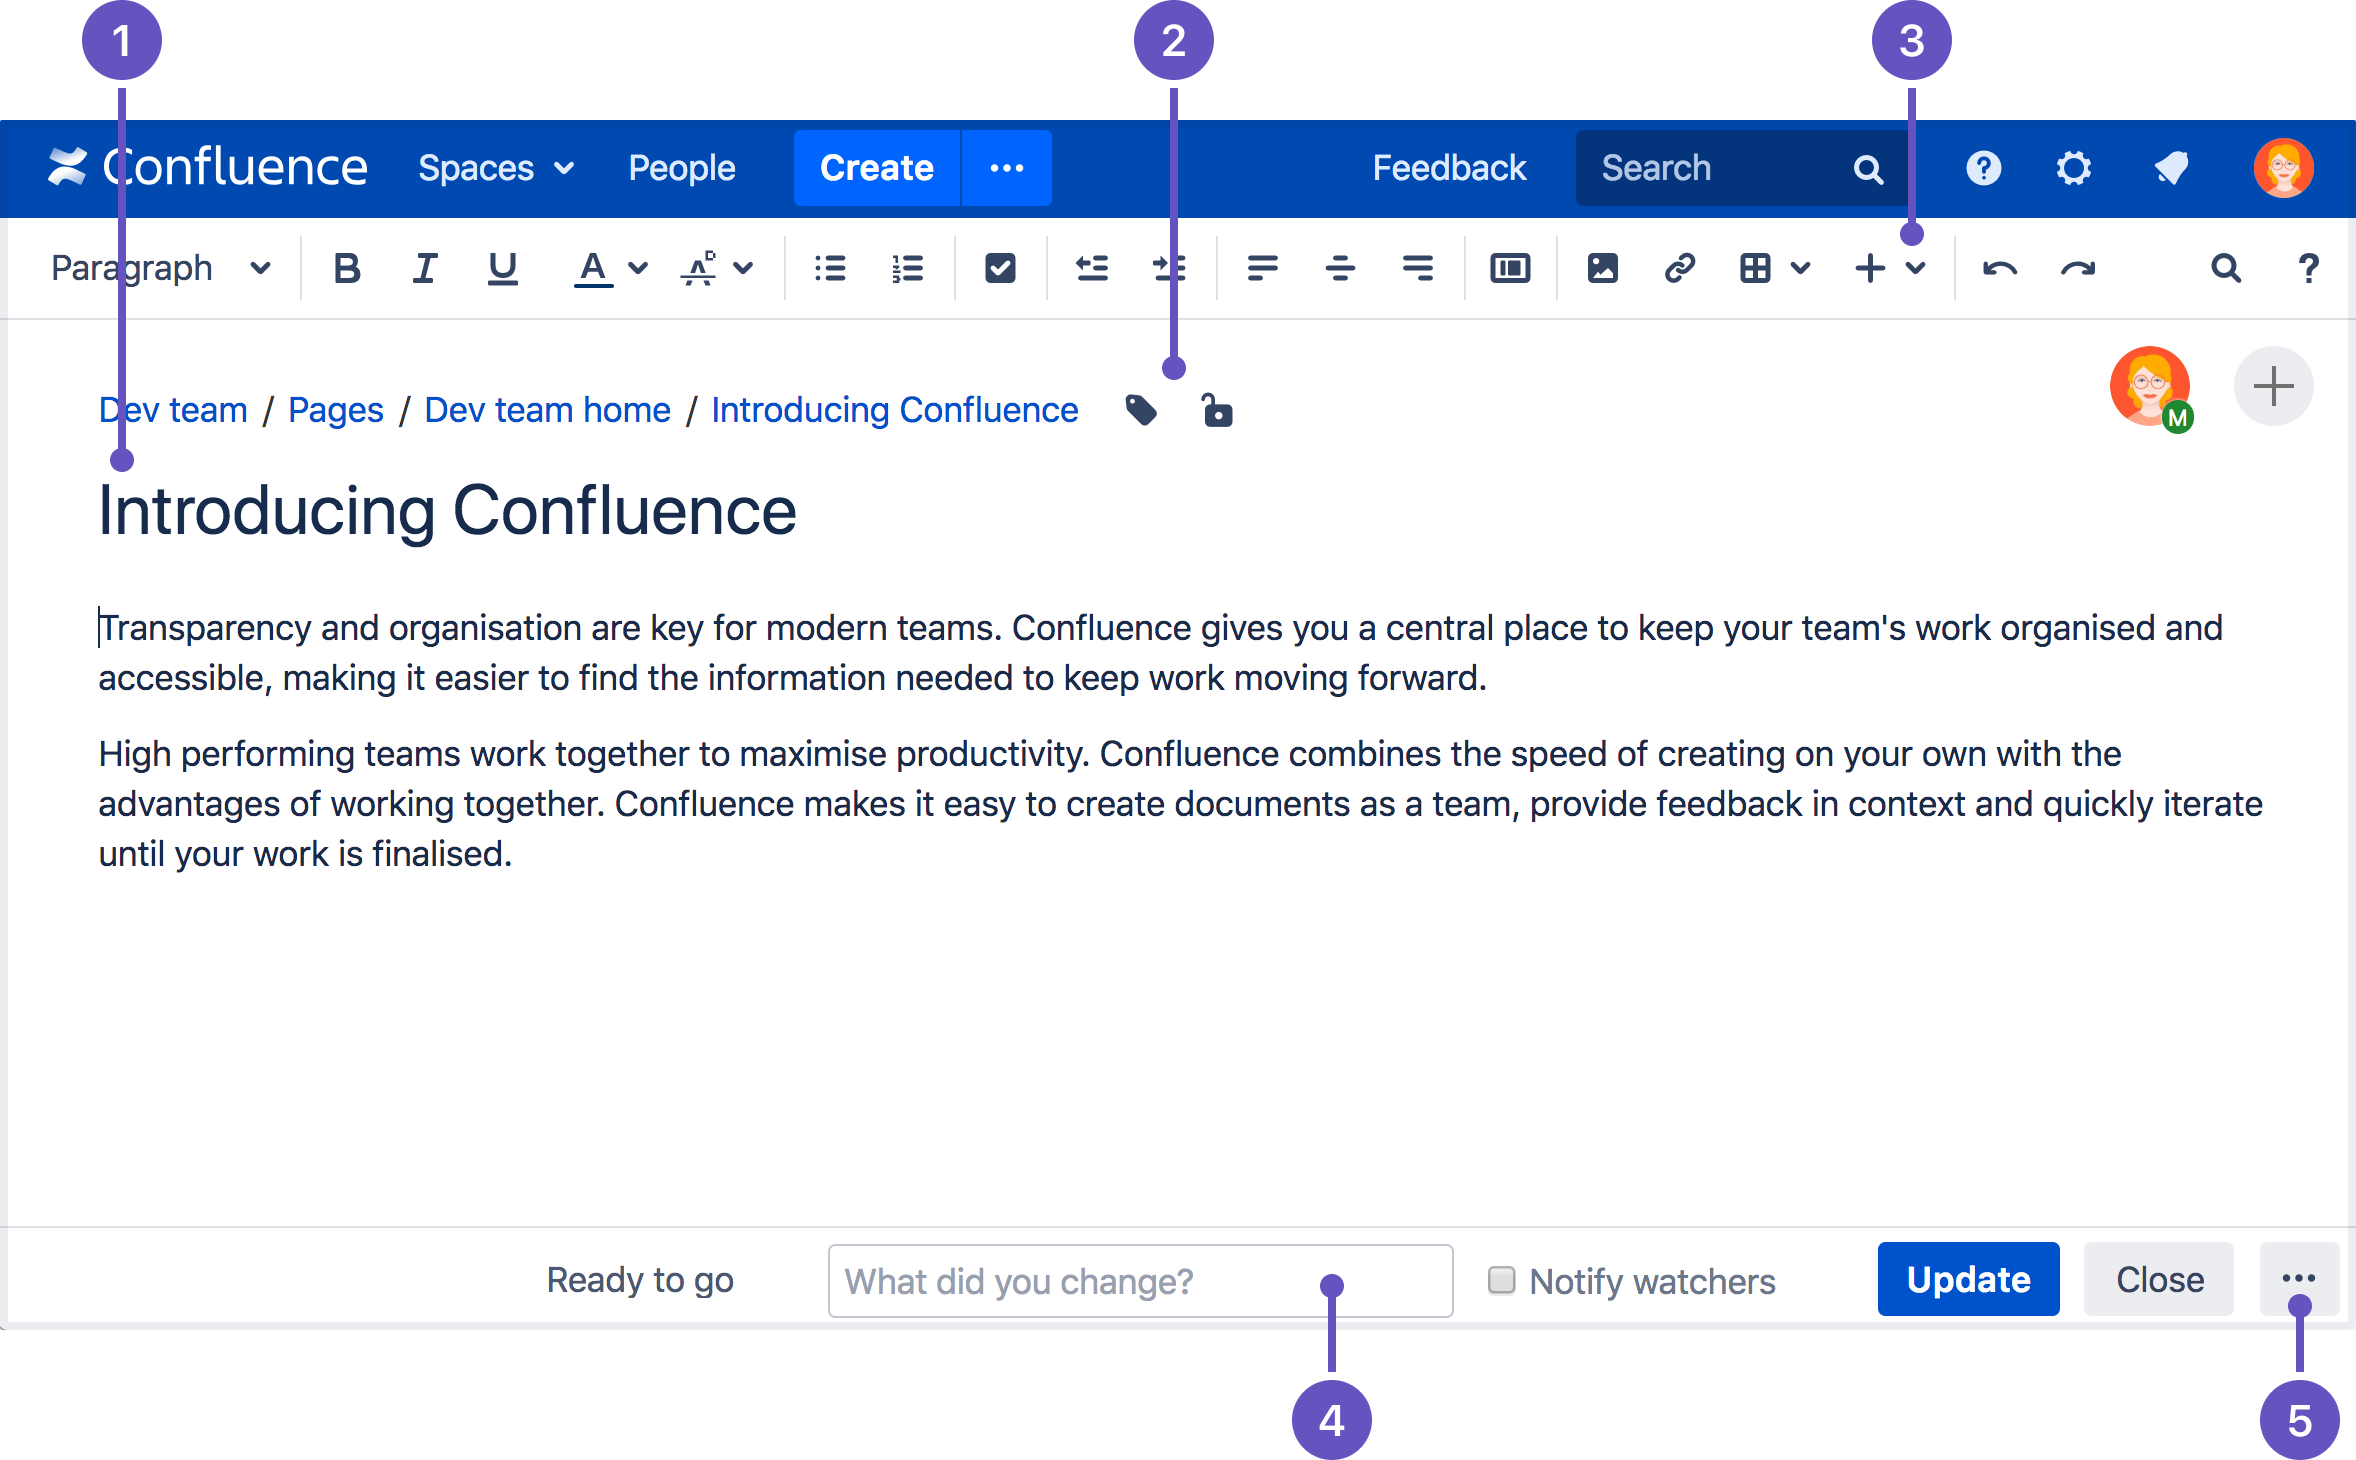button_create: (793, 126, 966, 207)
search_box: (1579, 133, 1903, 214)
